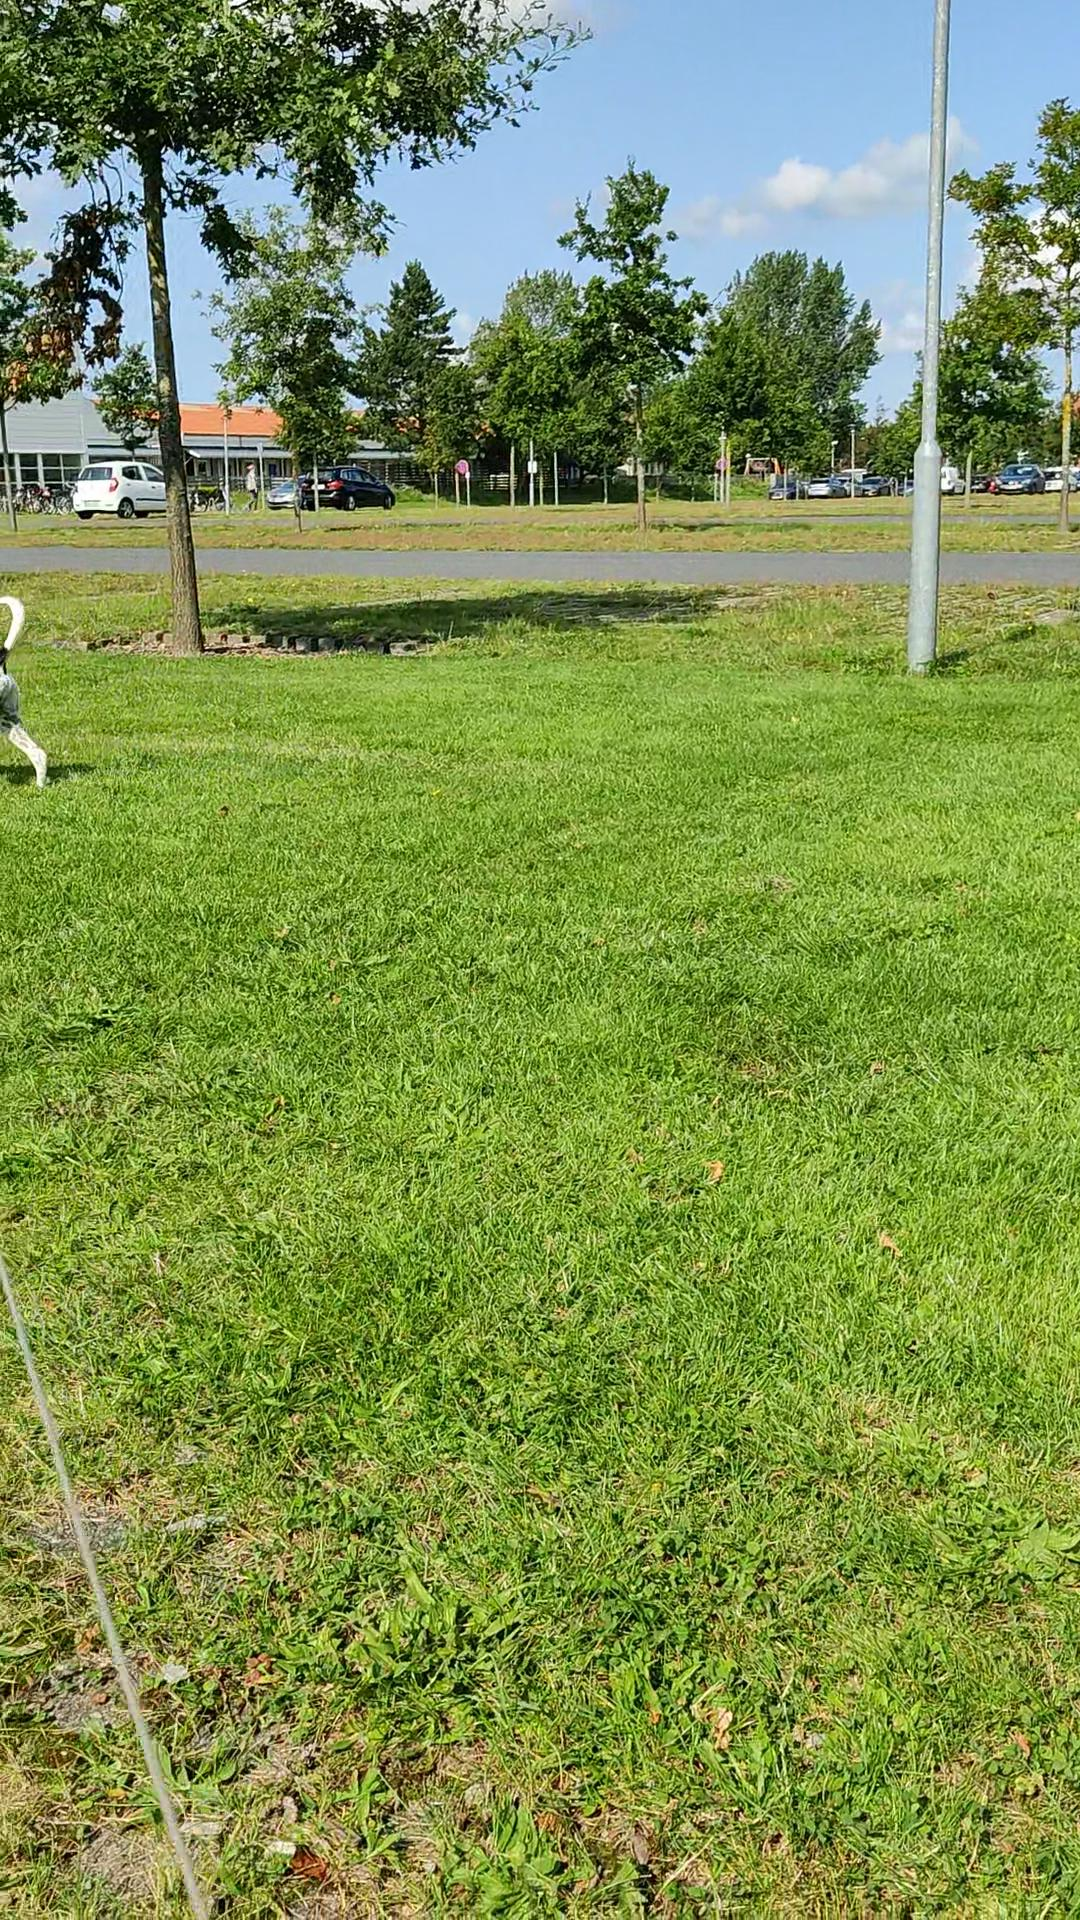Dog: (0, 585, 59, 802)
